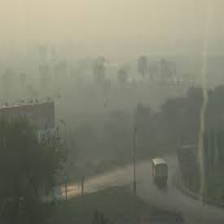smoke: (9, 31, 149, 90)
